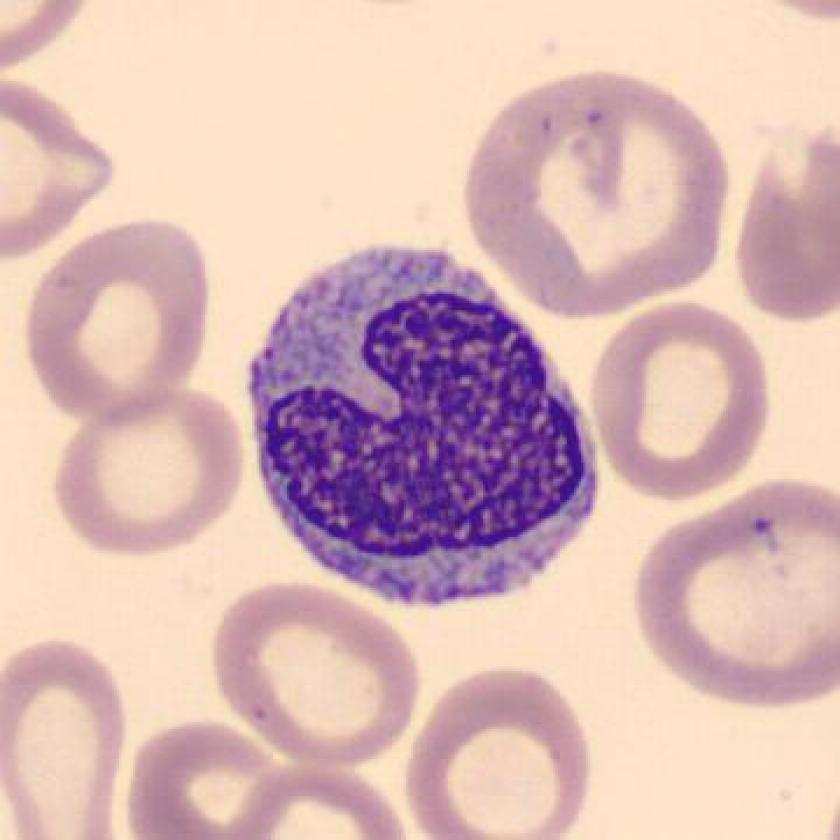monocyte: (230, 216, 619, 628)
